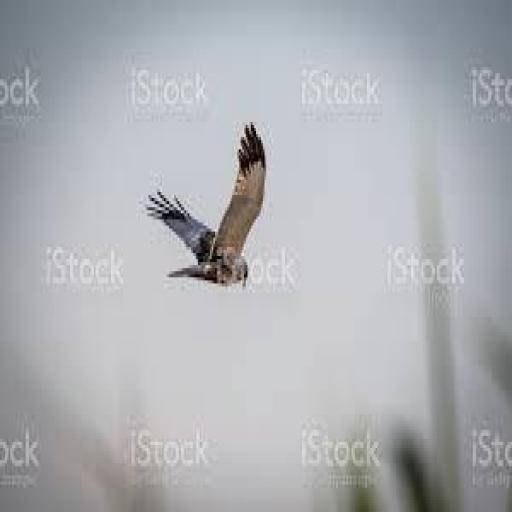birds: (144, 119, 271, 289)
